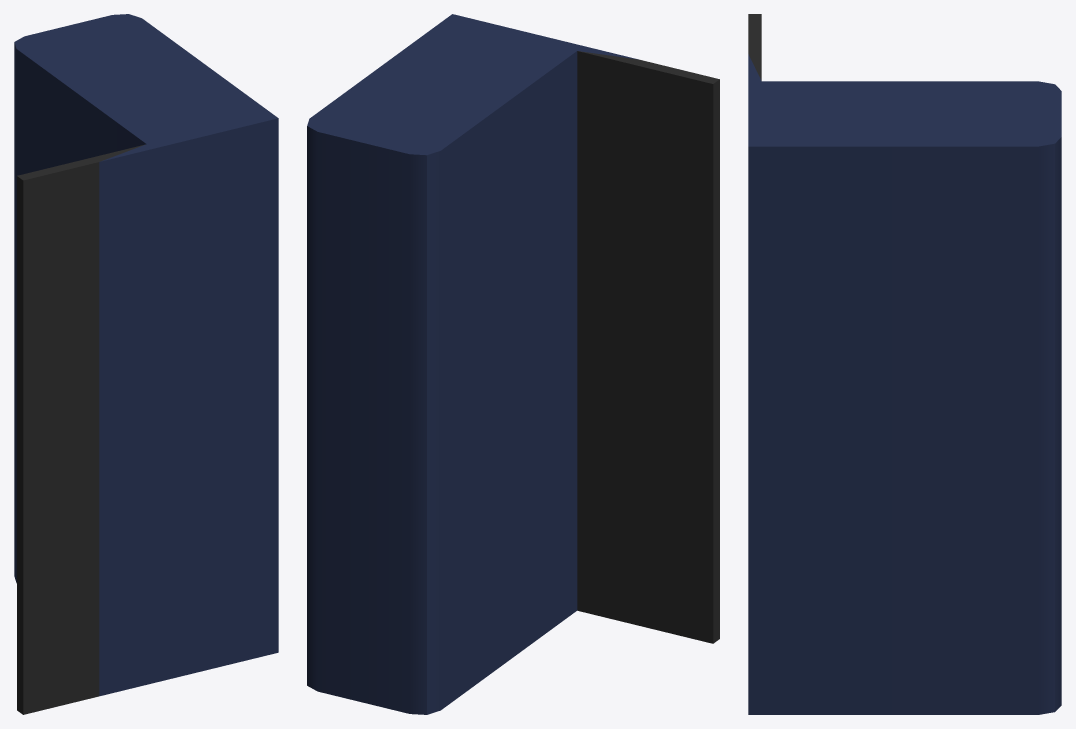
The model's file is grid_frame_L.fbx.
3 renders of one model, left to right at view 1: azimuth 30°, elevation 25°; view 2: azimuth 150°, elevation 25°; view 3: azimuth 270°, elevation 25°, orthographic. The views are drawn at different scales.
Parts seen in each view (by area): view 1: grid_frame_L; view 2: grid_frame_L; view 3: grid_frame_L.
Part boxes in pixels (box(x1,y1,x2,y2)): grid_frame_L: box(14, 14, 278, 714); grid_frame_L: box(307, 14, 719, 714); grid_frame_L: box(748, 14, 1061, 714).
Bounding box in the file's own units: 50 × 100 × 50.
1 material, 1 textured.
